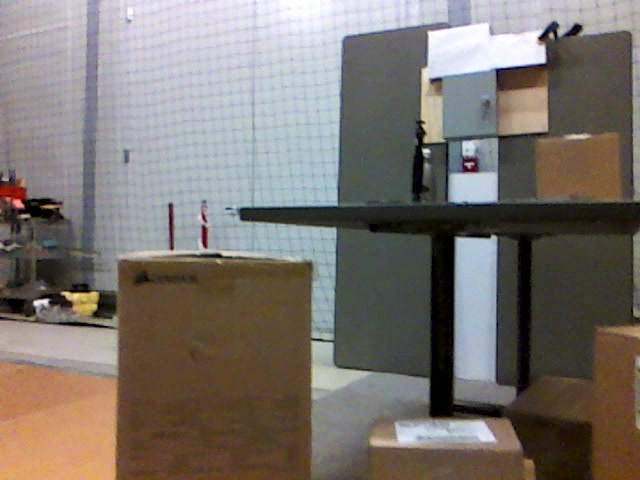box: (116, 250, 311, 480), (369, 415, 522, 480), (505, 376, 593, 469), (594, 321, 640, 480), (535, 133, 624, 202)
